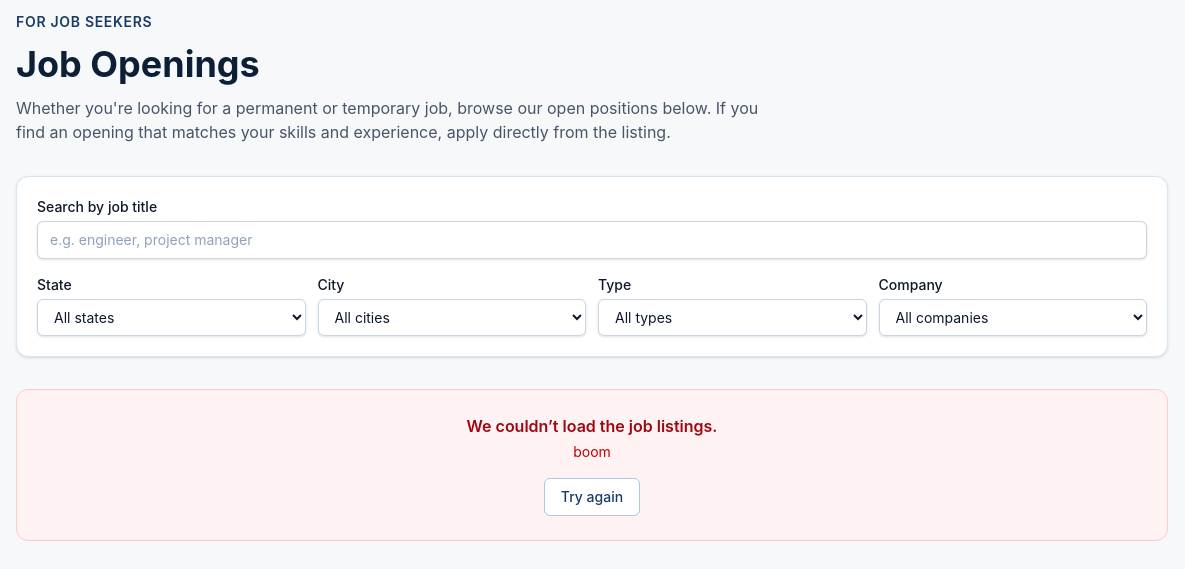
Test: <JobsPage /> — gallery (Task 8.1) › refetches when the Try again button is clicked
This screenshot has width=1185, height=569.
Click the button "Try again" at coordinates (592, 497), box x1=544 y1=478 x2=640 y2=516
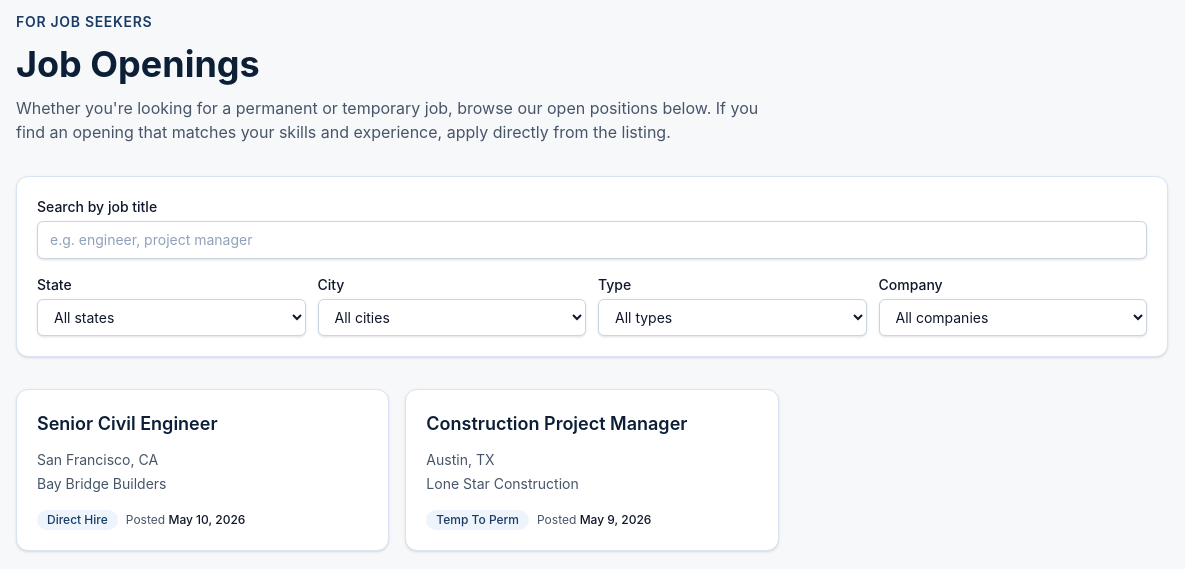
Now the message "We couldn’t load the job listings. boom Try again" is gone
Now the list named "job openings" is shown, box x1=16 y1=389 x2=779 y2=551
